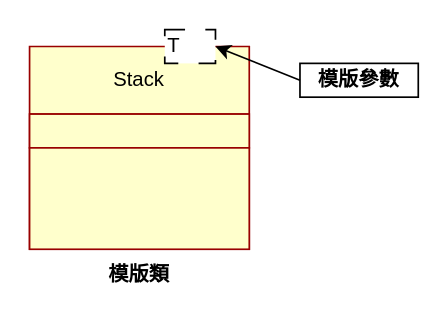
This 448x330 diagram has some shape labels left out. Each missing label, with the centre of its shape:
"Push(elem : T) : int Pop() : int GetTop() : const T&" goes at (138,197).
"size : int" goes at (138,130).
